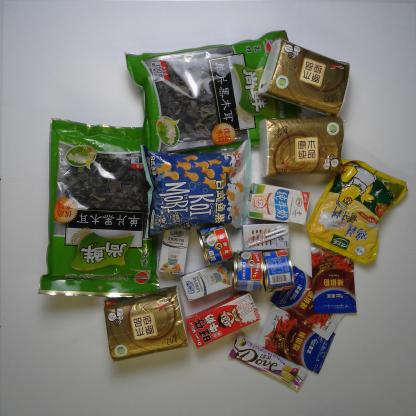Canned Food: (195, 222, 236, 268), (261, 247, 296, 294), (231, 249, 265, 294)
Chocolate: (227, 333, 309, 393)
Dried Food: (121, 28, 306, 158), (35, 115, 165, 300)
Milk: (183, 288, 263, 350), (245, 181, 312, 226), (179, 260, 234, 303), (157, 226, 192, 276), (239, 221, 292, 252)
Puffed Food: (135, 142, 254, 241)
Seasoner: (305, 155, 410, 266), (268, 264, 348, 342), (252, 304, 337, 376), (308, 241, 359, 317)
Tissue: (255, 34, 353, 119), (100, 282, 192, 364), (254, 112, 347, 180)
